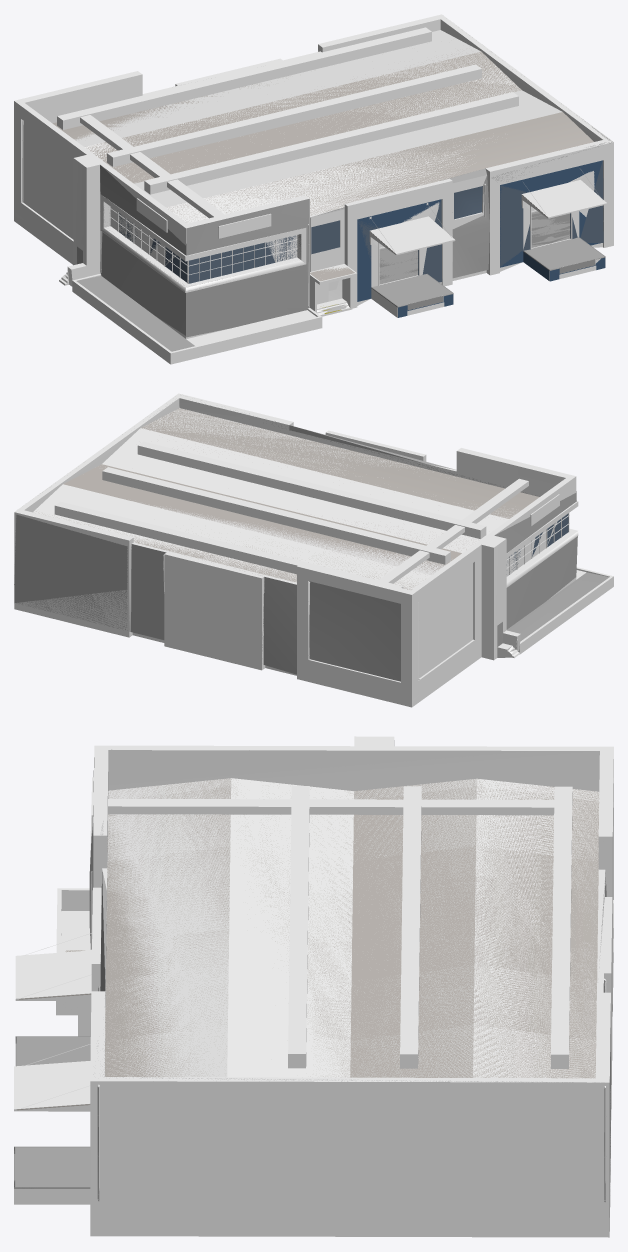
Rendered from s_island_logistics_office.dae.
The picture shows the model from 3 angles, top to bottom: view 1: azimuth 30°, elevation 25°; view 2: azimuth 150°, elevation 25°; view 3: azimuth 270°, elevation 25°; orthographic projection. The views are drawn at different scales.
Visible parts, largest first — view 1: s_island_logistics_office_L500, Colmesh_island_logistics_office-1, s_island_logistics_office_L80, s_island_logistics_office_L250; view 2: Colmesh_island_logistics_office-1, s_island_logistics_office_L500, s_island_logistics_office_L80, s_island_logistics_office_L250; view 3: Colmesh_island_logistics_office-1, s_island_logistics_office_L500, s_island_logistics_office_L250, s_island_logistics_office_L80.
Part boxes in pixels (x1=…): s_island_logistics_office_L500: x1=14, y1=14, x2=613, y2=364; Colmesh_island_logistics_office-1: x1=14, y1=14, x2=613, y2=353; s_island_logistics_office_L80: x1=76, y1=35, x2=612, y2=351; s_island_logistics_office_L250: x1=14, y1=19, x2=613, y2=356; Colmesh_island_logistics_office-1: x1=14, y1=393, x2=611, y2=707; s_island_logistics_office_L500: x1=14, y1=394, x2=613, y2=702; s_island_logistics_office_L80: x1=14, y1=400, x2=609, y2=681; s_island_logistics_office_L250: x1=25, y1=396, x2=577, y2=701; Colmesh_island_logistics_office-1: x1=14, y1=736, x2=613, y2=1237; s_island_logistics_office_L500: x1=14, y1=745, x2=610, y2=1224; s_island_logistics_office_L250: x1=14, y1=749, x2=610, y2=1201; s_island_logistics_office_L80: x1=19, y1=749, x2=612, y2=1217.
Size of the model in its own units: 44.95 by 33.96 by 11.25.
